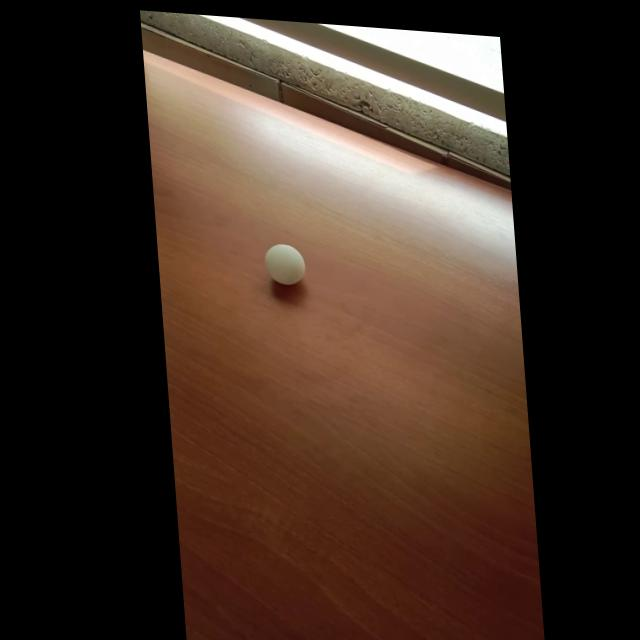white ball: (262, 241, 306, 286)
